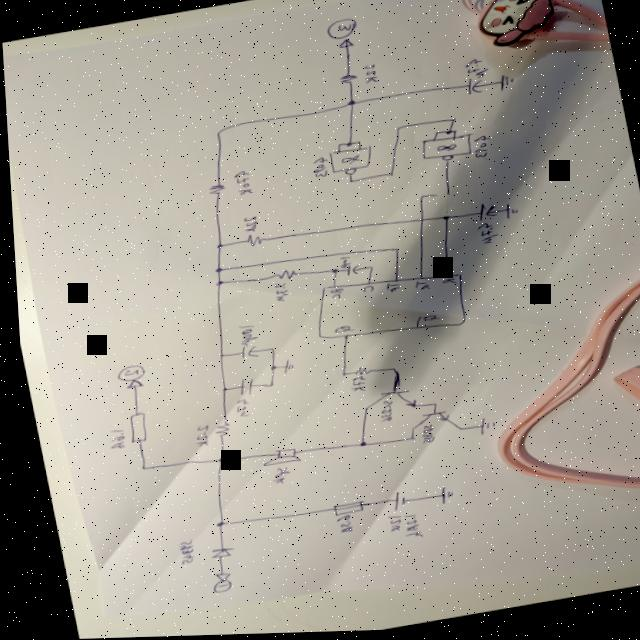capacitor: (471, 203, 496, 224), (463, 77, 485, 98), (230, 377, 251, 398), (233, 343, 256, 361), (340, 264, 360, 277)
crossover: (414, 218, 423, 225)
diode: (199, 544, 229, 561)
ground: (471, 417, 492, 438), (495, 74, 515, 93), (432, 487, 449, 507), (500, 204, 517, 222), (275, 358, 292, 375)
junction: (211, 124, 231, 138), (206, 520, 219, 528), (208, 266, 221, 274), (344, 100, 355, 108), (350, 441, 362, 448), (437, 215, 447, 223), (210, 279, 221, 286), (214, 386, 225, 393), (325, 268, 336, 275), (210, 456, 221, 463), (210, 243, 221, 250), (342, 141, 353, 148), (344, 179, 353, 186), (132, 465, 142, 471), (446, 119, 456, 125), (383, 367, 393, 373), (263, 365, 272, 371), (260, 383, 269, 389), (441, 131, 451, 136), (334, 372, 342, 378), (425, 403, 433, 409), (415, 195, 423, 201), (402, 436, 410, 442), (391, 127, 400, 132), (263, 347, 271, 352), (212, 353, 220, 358), (388, 248, 396, 253), (384, 173, 392, 178), (440, 193, 448, 198), (363, 266, 371, 271), (431, 132, 437, 138), (451, 428, 458, 433), (334, 143, 340, 148), (353, 142, 360, 146), (450, 131, 455, 135)
resistor: (120, 411, 145, 444), (268, 268, 294, 283), (205, 422, 227, 439), (335, 73, 358, 86), (242, 233, 261, 248), (205, 182, 224, 196), (348, 366, 367, 378)
source: (383, 491, 403, 513)
terminal: (119, 378, 142, 390), (335, 38, 357, 50), (205, 571, 225, 583)
text: (322, 17, 361, 43), (469, 222, 498, 248), (460, 58, 490, 83), (392, 513, 418, 541), (109, 363, 142, 384), (167, 539, 191, 566), (229, 169, 252, 197), (468, 135, 492, 161), (262, 465, 287, 487), (231, 323, 254, 346), (185, 424, 207, 448), (370, 400, 392, 424), (101, 427, 123, 450), (411, 424, 432, 447), (306, 157, 327, 179), (359, 63, 379, 86), (327, 514, 348, 535), (267, 282, 286, 303), (237, 215, 257, 234), (342, 376, 363, 394), (203, 578, 226, 594), (227, 398, 245, 418), (378, 515, 396, 534), (326, 325, 349, 336), (380, 282, 398, 295), (409, 280, 427, 293), (324, 288, 340, 301), (334, 256, 348, 270), (416, 315, 437, 324), (436, 278, 454, 288), (355, 285, 371, 294)
transistor: (355, 388, 412, 418), (402, 410, 453, 436)
